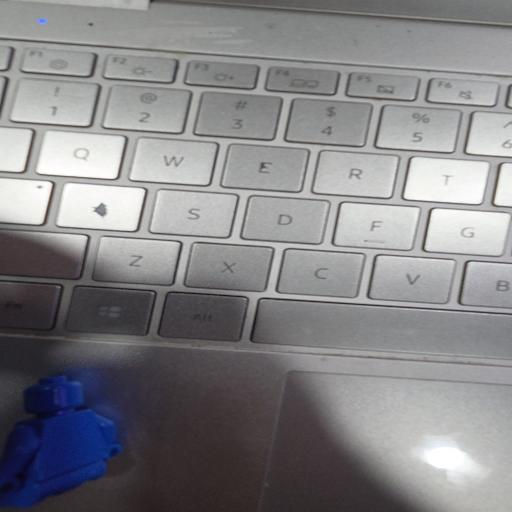Blue: (0, 375, 121, 507)
